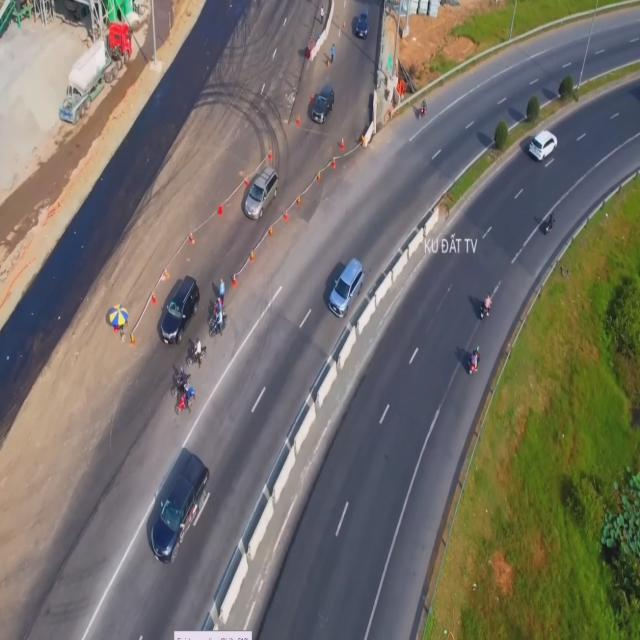car: (150, 450, 210, 566), (161, 273, 200, 348), (329, 260, 366, 324), (241, 162, 279, 224), (310, 86, 335, 128), (350, 11, 372, 46), (530, 131, 557, 159)
motorbike: (176, 382, 197, 413), (186, 343, 207, 370), (208, 308, 227, 335), (466, 347, 484, 374), (543, 211, 558, 237), (480, 296, 492, 324)
